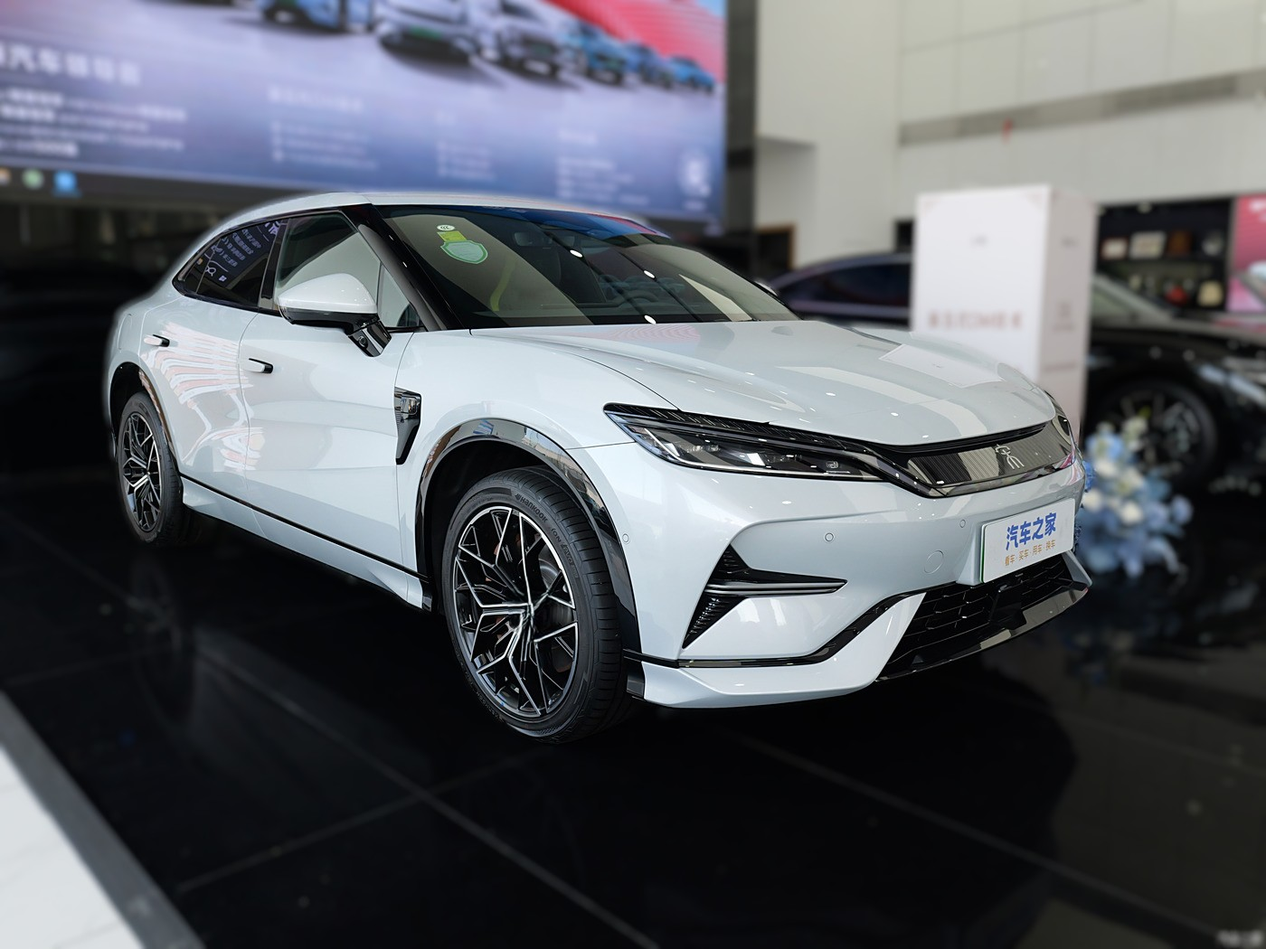BYD Song: (996, 444, 1025, 469)
